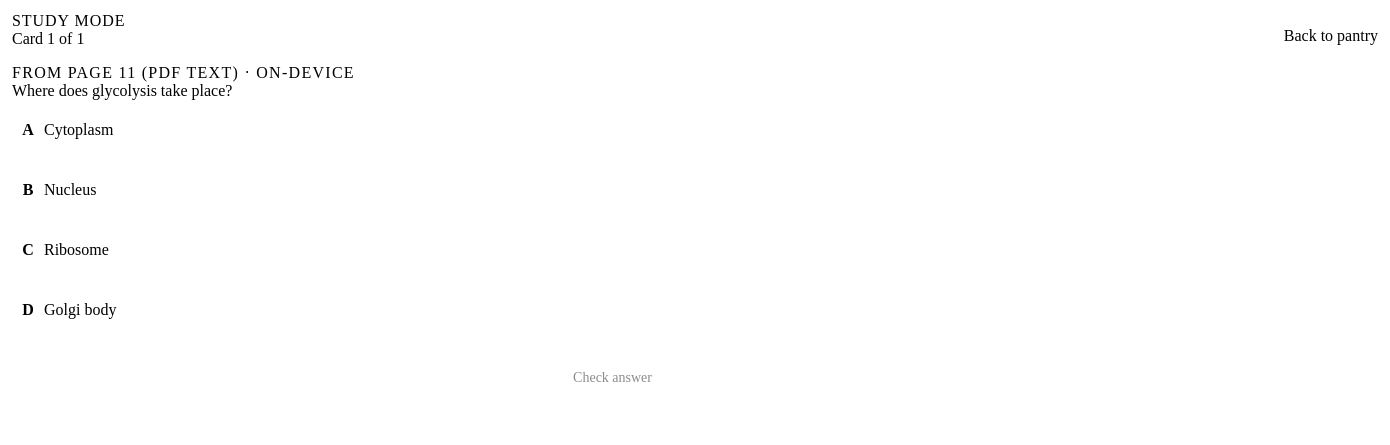
StudySession › keeps final feedback visible until the completed round is saved
The width and height of the screenshot is (1390, 445).
Click the button "A Cytoplasm" at (79,130), box [12, 100, 652, 160]
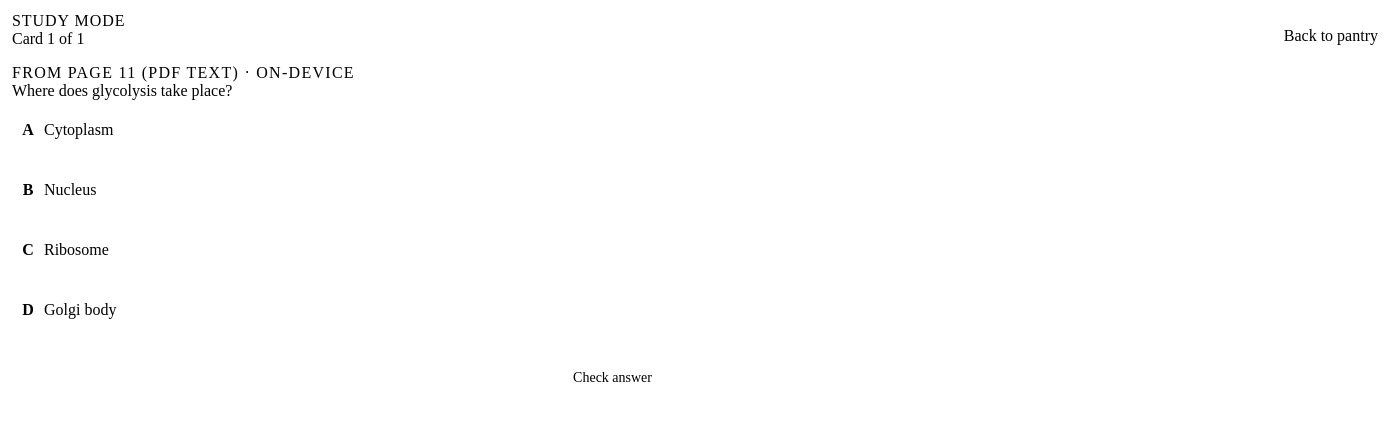
Click the button "Check answer" at (613,378), box [573, 356, 652, 400]
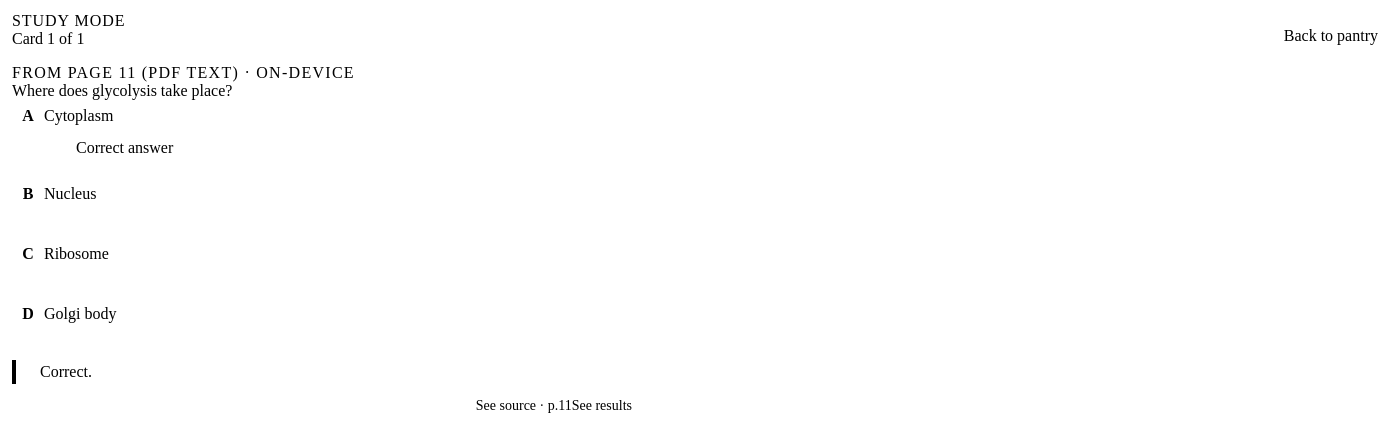
Click the button "See results" at (612,406), box [572, 384, 652, 428]
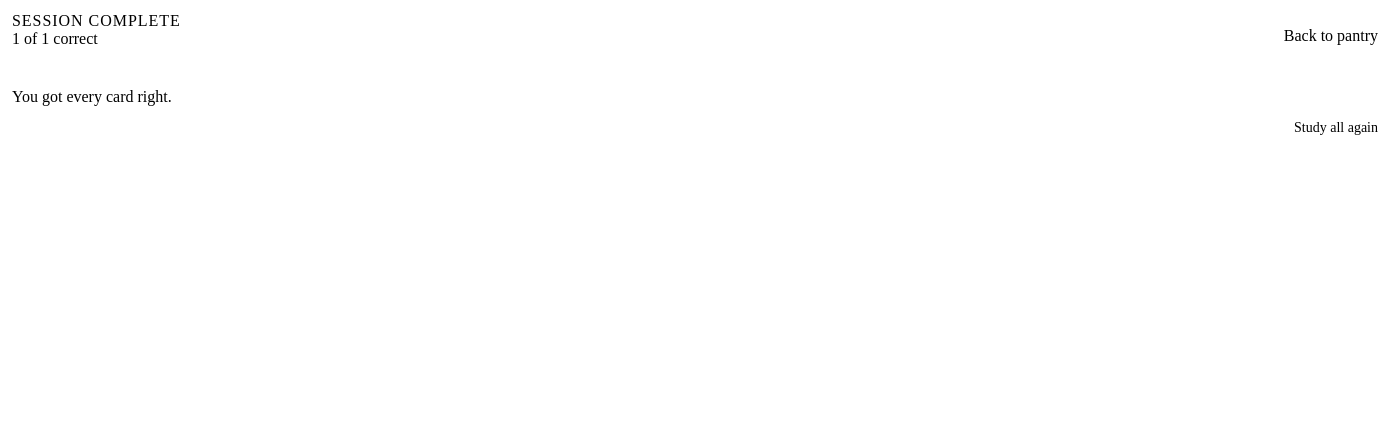
Expected: the heading "1 of 1 correct" is shown, [12, 30, 98, 47]
